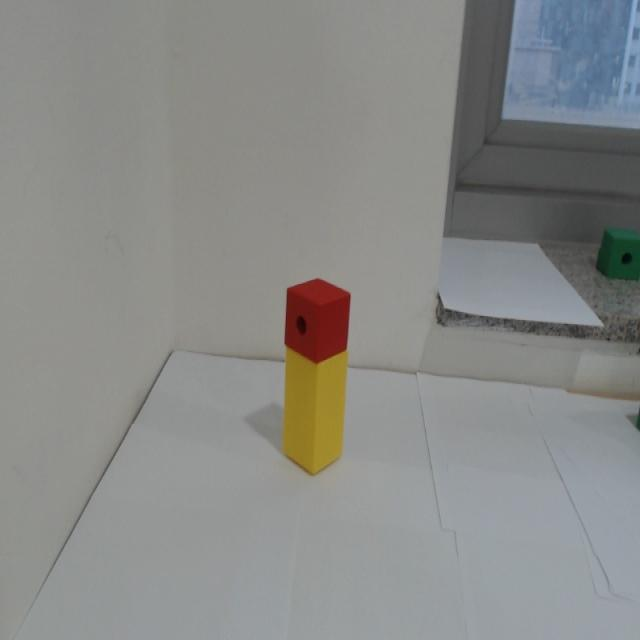cube: (282, 272, 352, 366)
